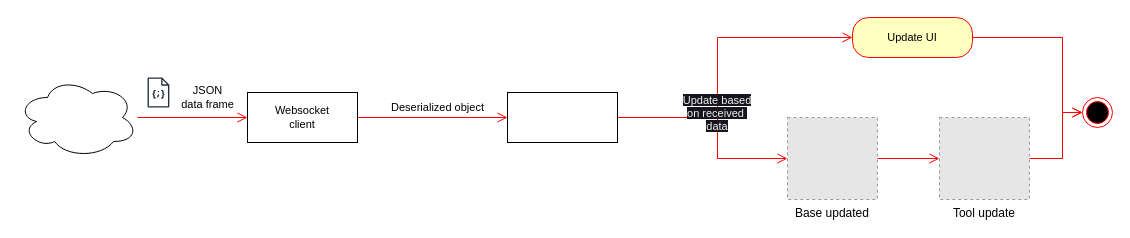
This 1130x238 diagram has some shape labels left out. Grey dashed boxes stand in for pictures. The shapes that lost their labels are listed below. From the top down, each one's centre as x and y in pixels, then its label:
(77,117): Websocket
(562,117): Tracked Robots Handler
